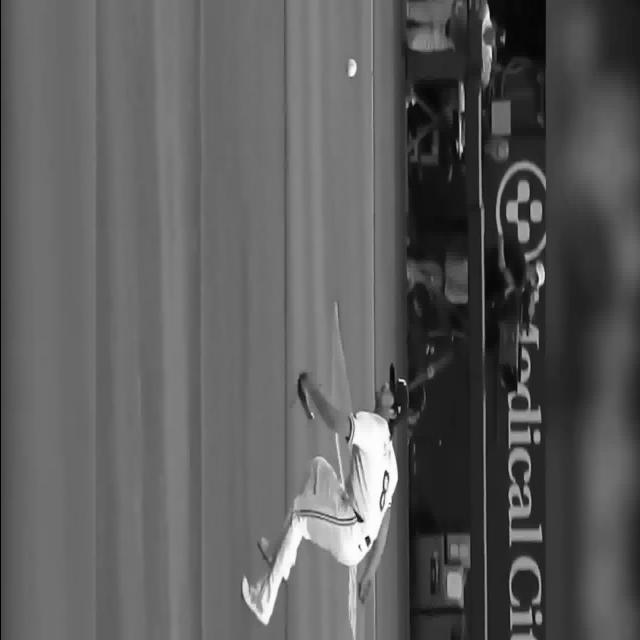baseball: (346, 58, 356, 78)
baseball_glove: (296, 372, 314, 419)
shoe: (241, 575, 269, 625), (256, 535, 286, 581), (256, 536, 274, 564)
